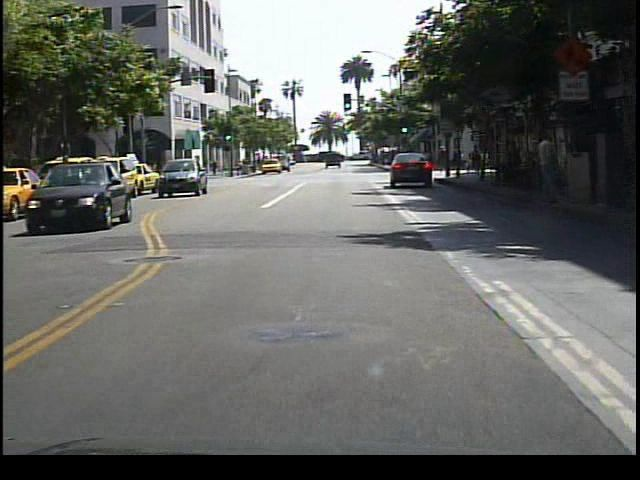person: (532, 127, 563, 209), (54, 148, 76, 209)
